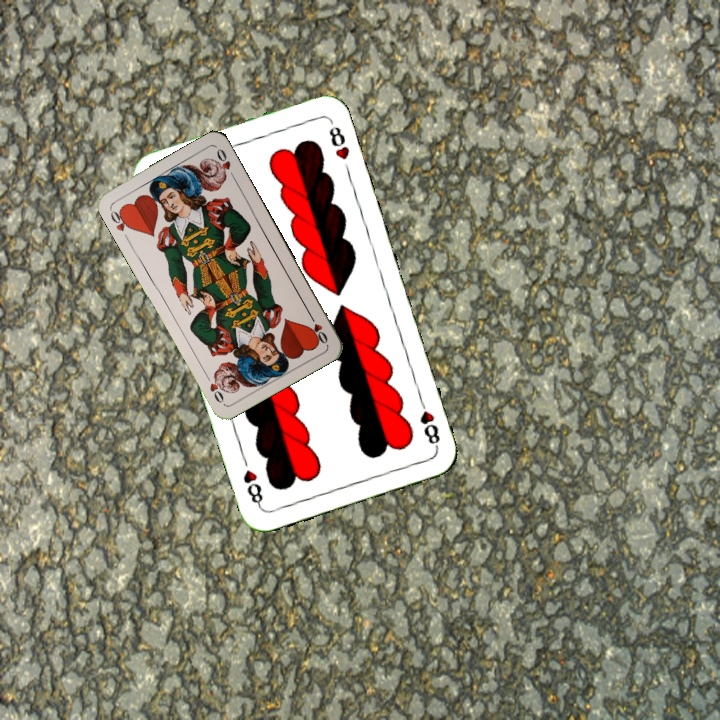H8: (415, 393, 443, 451)
HO: (305, 309, 331, 346), (105, 205, 134, 234)
